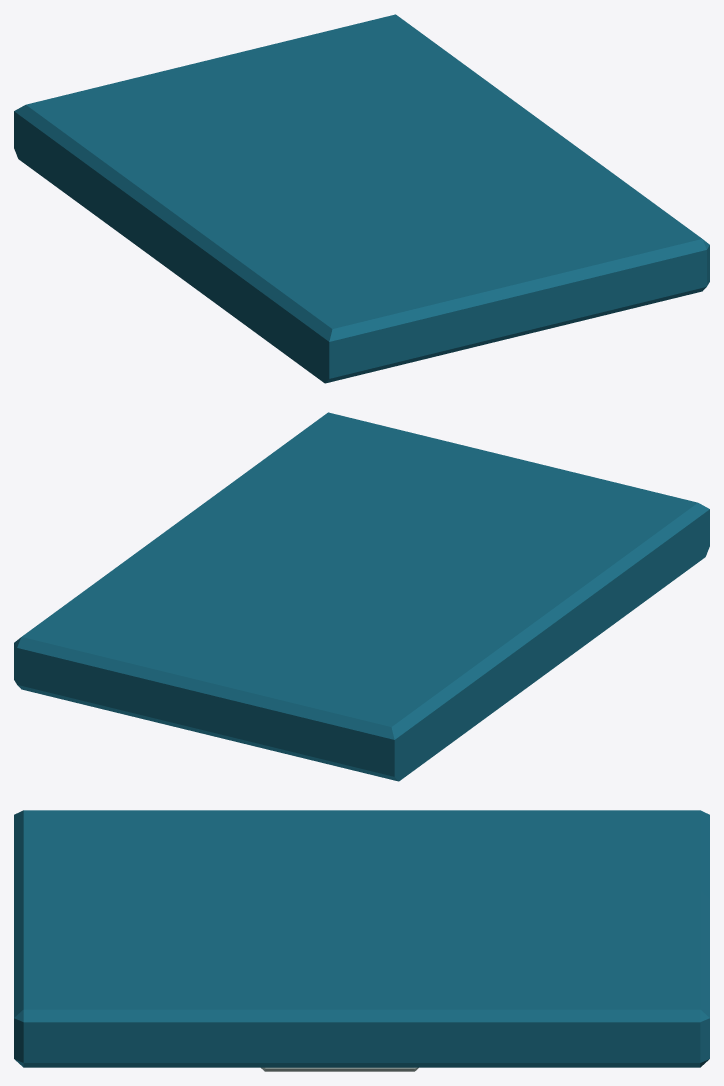
Rendered from oven-part1.glb.
3 renders of one model, top to bottom at view 1: azimuth 30°, elevation 25°; view 2: azimuth 150°, elevation 25°; view 3: azimuth 270°, elevation 25°, orthographic. The views are drawn at different scales.
Parts seen in each view (by area): view 1: OvenPart1.001; view 2: OvenPart1.001; view 3: OvenPart1.001.
Part boxes in pixels (<box>): OvenPart1.001: <box>14,14,709,383</box>; OvenPart1.001: <box>14,412,709,781</box>; OvenPart1.001: <box>14,810,709,1071</box>.
Bounding box in the file's own units: 0.65 × 0.1349 × 0.9221.
1 material, 1 textured.
